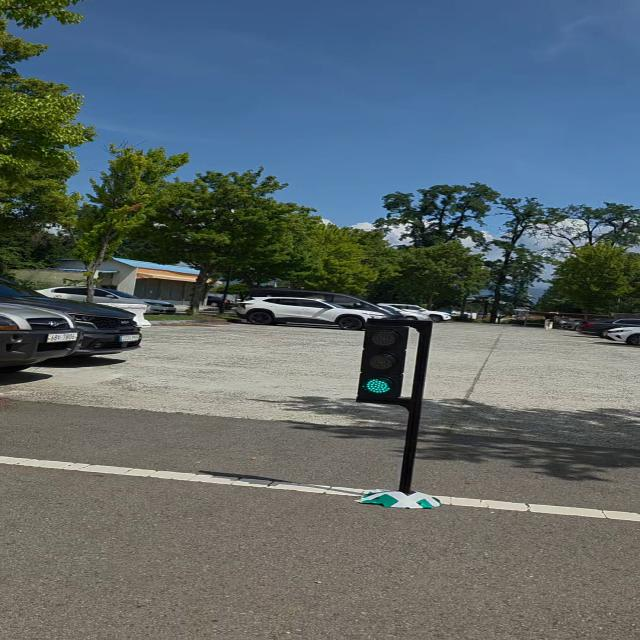green: (357, 318, 410, 404)
